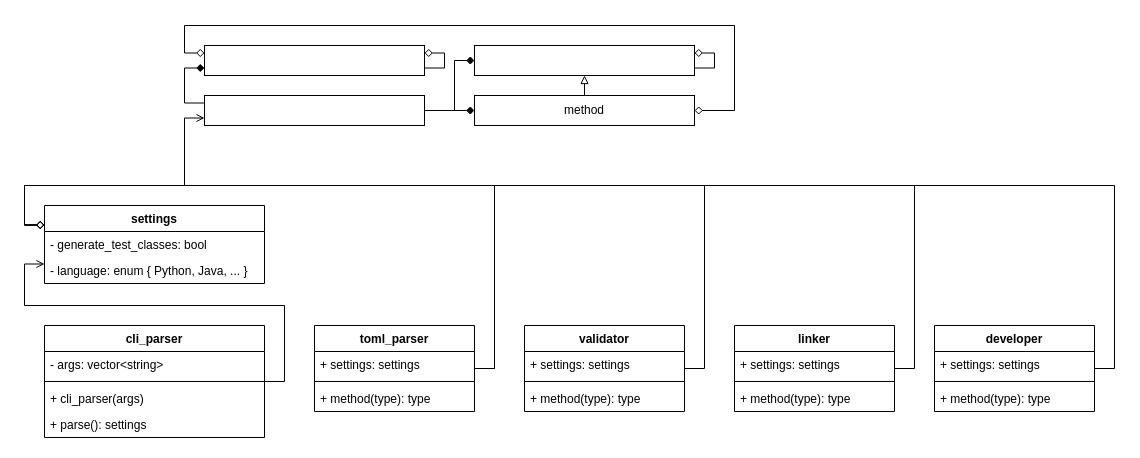
This 1140x458 diagram has some shape labels left out. The centre of each missing label's shape, as x and y in pixels:
class: pixel 314 60
function: pixel 584 60
project: pixel 314 110
